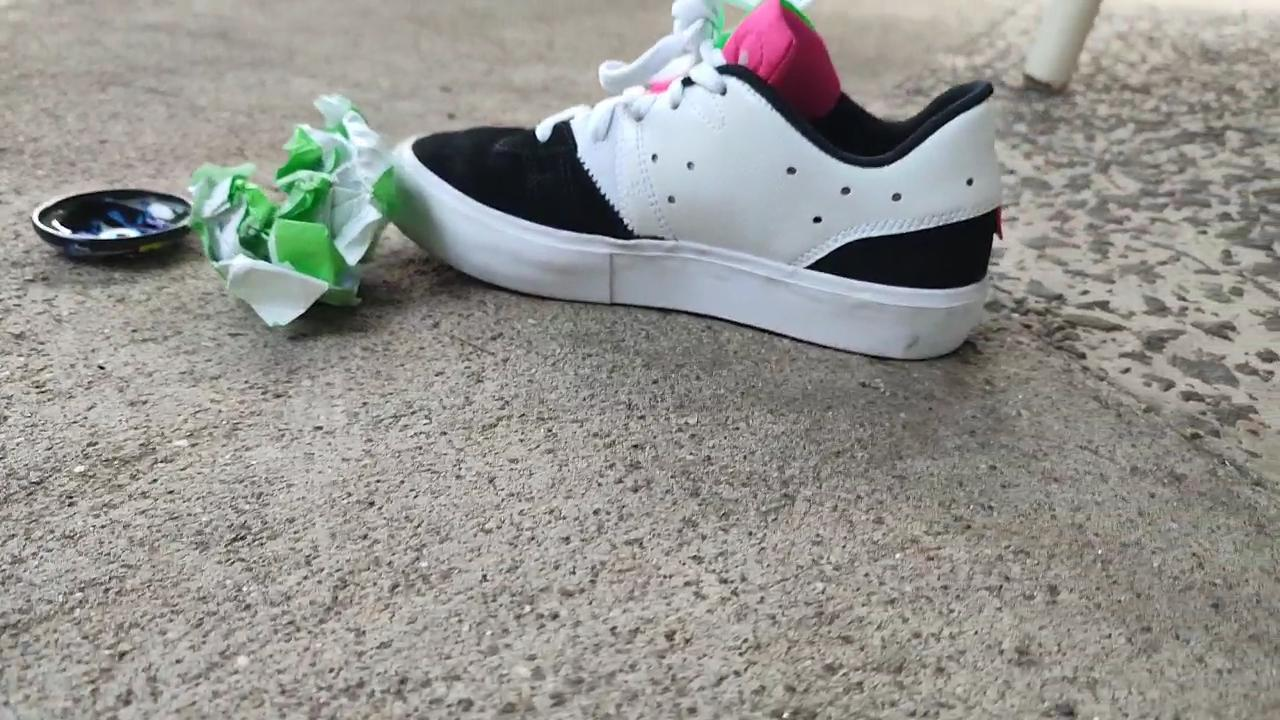Paper: (181, 66, 402, 354)
